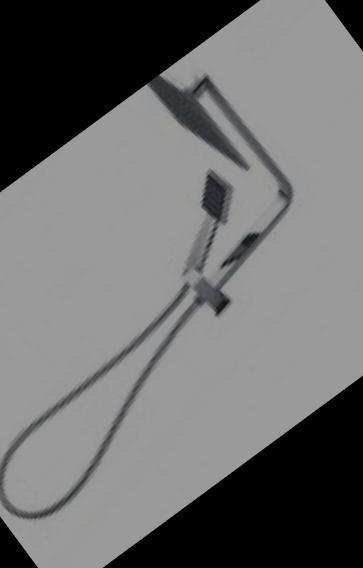Ducha: (0, 34, 363, 542)
